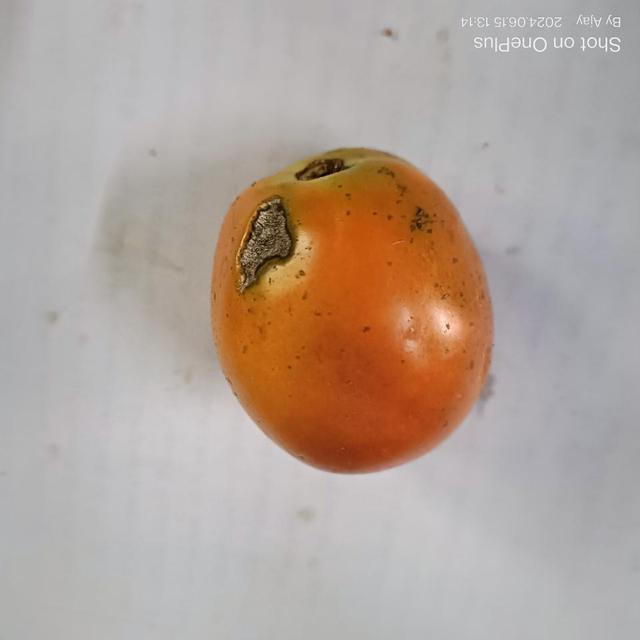Bacterial Spot Fruit: (19, 18, 279, 163)
